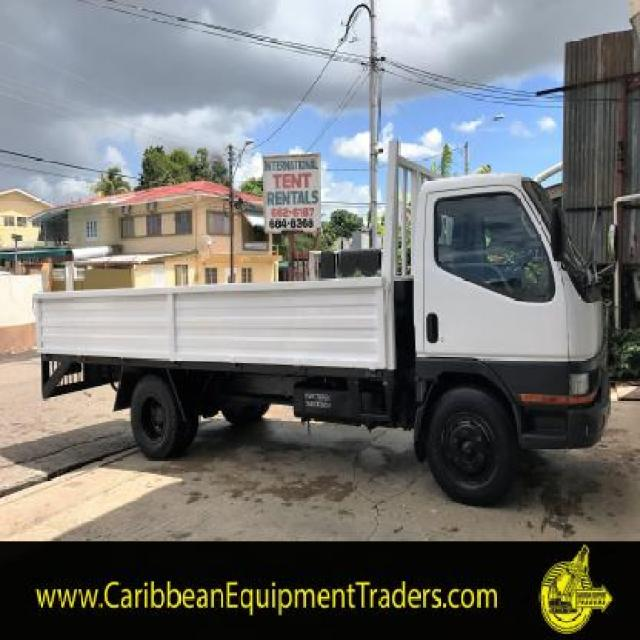truck: (36, 173, 609, 500)
